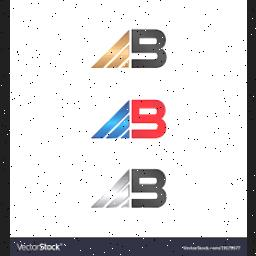b: (125, 24, 175, 74), (122, 92, 170, 142), (130, 160, 168, 212)
